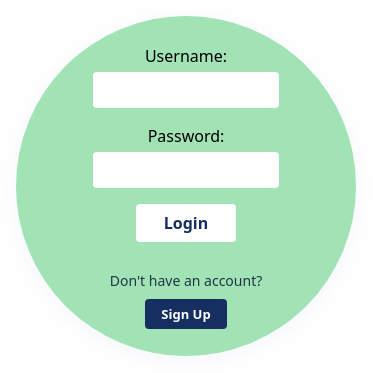
Scenario: App Component › Login Form › should show success message on successful login
Type "testuser" into the field at [186, 90], box top-left (93, 72), bottom-right (279, 108)
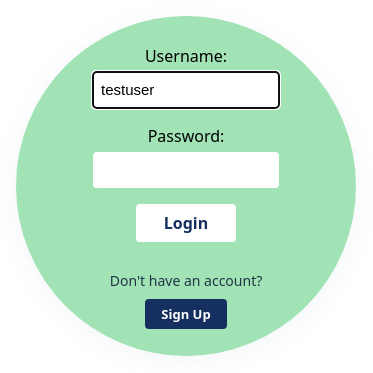
Type "password123" into the password field at [186, 170], box top-left (93, 152), bottom-right (279, 188)
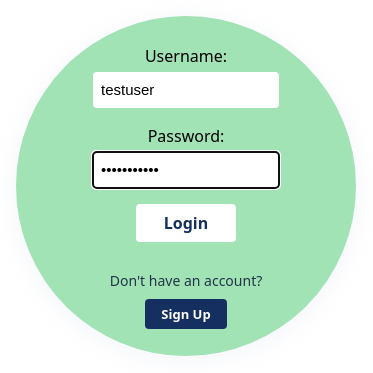
Click the button "Login" at [186, 222], box top-left (136, 204), bottom-right (236, 242)
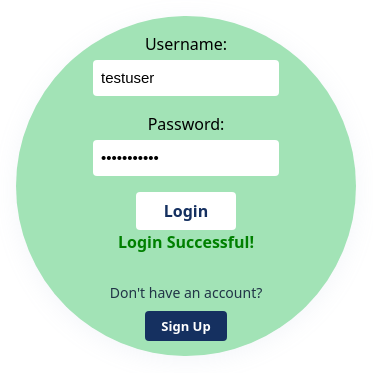
Result: the text "Login Successful!" is shown at top-left (118, 230), bottom-right (254, 254)
